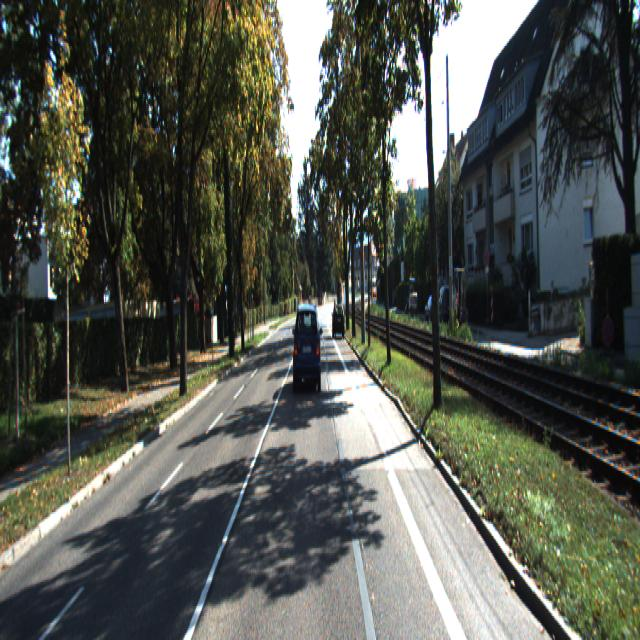Car: (293, 301, 322, 395), (436, 283, 456, 326), (425, 293, 443, 324), (333, 304, 345, 339)
Misc: (452, 265, 469, 327)
